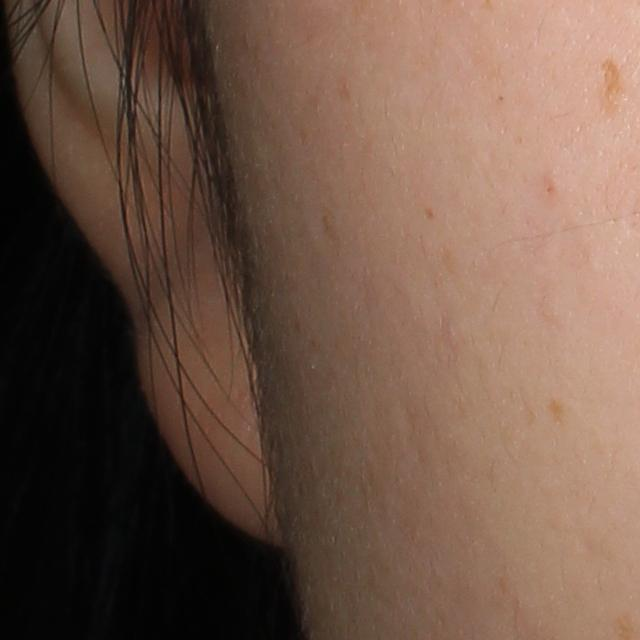melasma: (596, 55, 623, 118), (546, 396, 568, 427)
